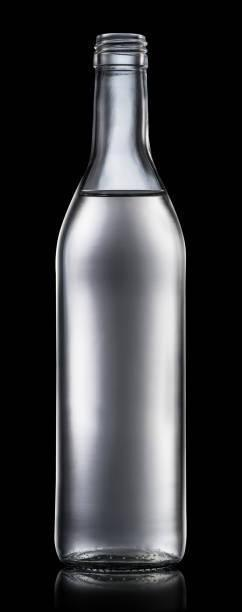bottle-glass: (49, 27, 192, 577)
